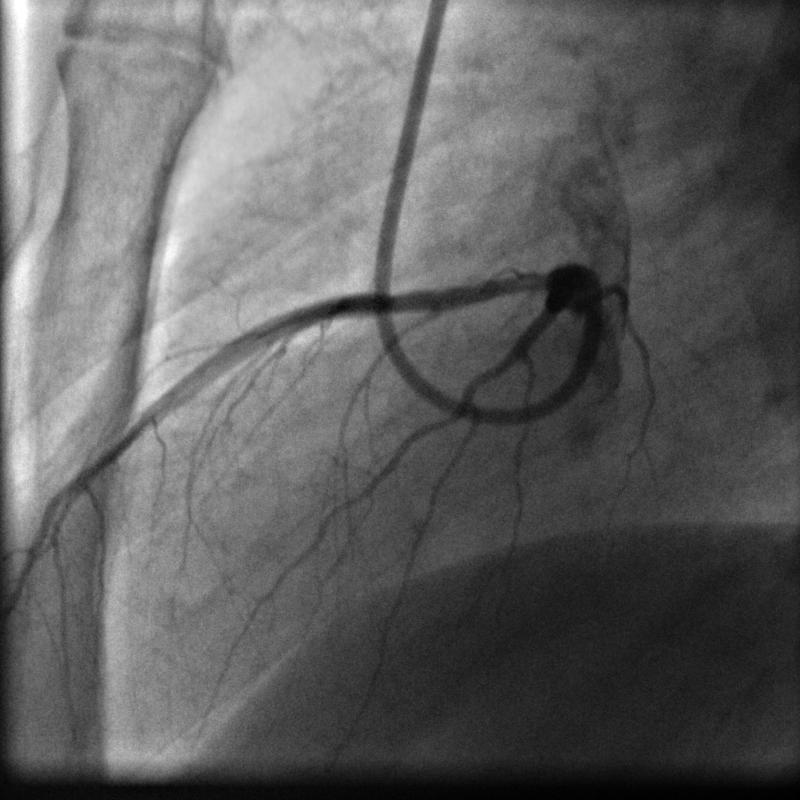Stenosis: (387, 287, 405, 318)
